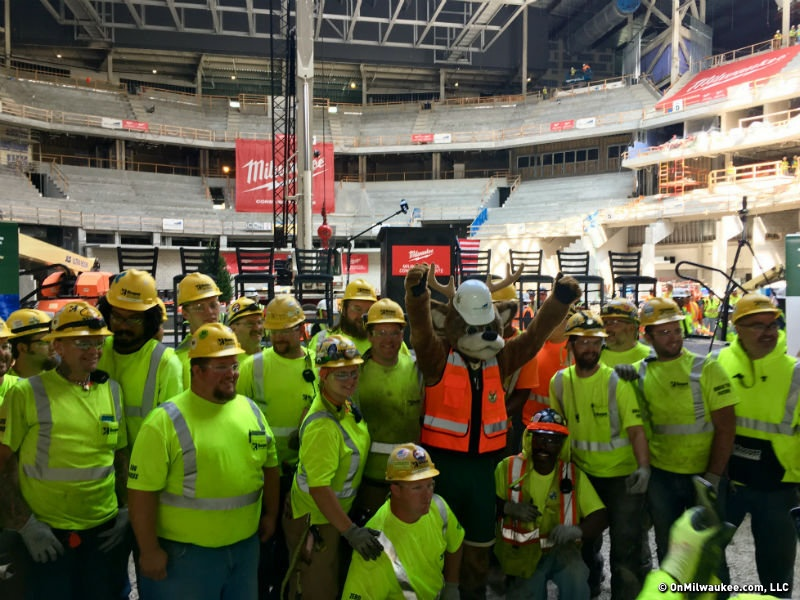blue: (524, 406, 568, 466)
yellow: (99, 264, 163, 346), (183, 318, 246, 400), (380, 439, 444, 516), (46, 298, 109, 374), (727, 288, 783, 357), (4, 304, 57, 375), (313, 329, 364, 398), (636, 295, 685, 359), (175, 269, 224, 329), (560, 306, 607, 368), (263, 291, 308, 351), (364, 297, 408, 355), (337, 279, 378, 336), (597, 295, 641, 347), (223, 292, 264, 346), (481, 273, 520, 328)
